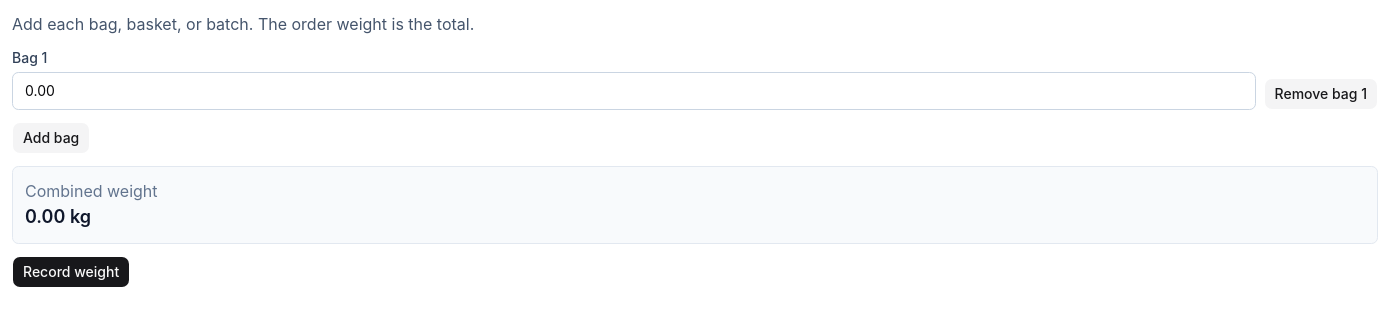
it: laundry weighing editor › refuses to re-record a legacy 0-gram weight
Check: the field labelled "Bag 1" holds "0.00", box [12,72,1256,110]
Click the button "Record weight": (71,272) [12,256,130,288]
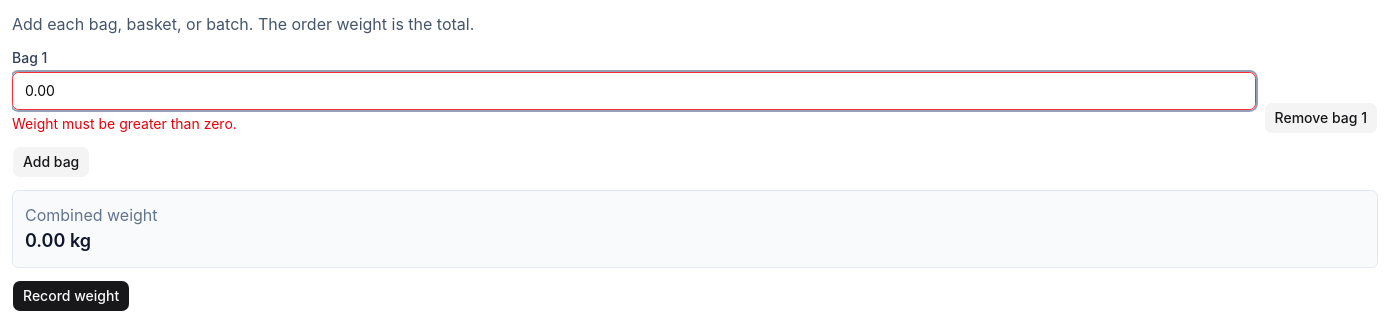
Check: the text "Weight must be greater than zero." is shown, box [12,115,237,132]
